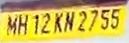character: (63, 11, 75, 31), (88, 9, 98, 31), (6, 15, 16, 36), (18, 14, 28, 35), (53, 12, 63, 32), (110, 8, 120, 28), (41, 12, 50, 34), (77, 10, 86, 31), (100, 9, 108, 29), (33, 14, 39, 34)
